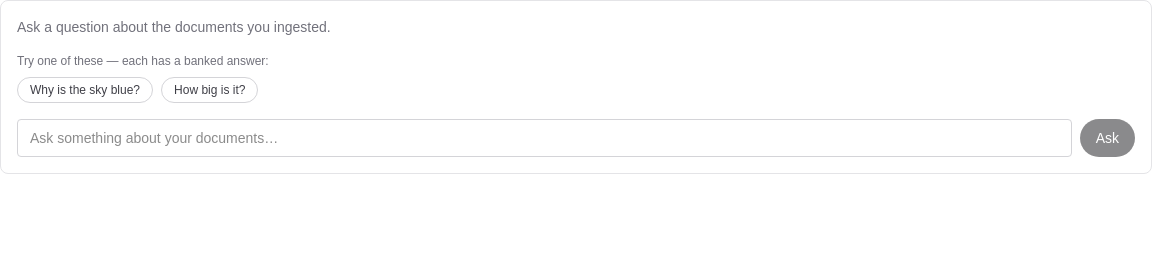
ChatWindow › a suggestion chip sends its exact text, and the chips hide only while a question is in flight
Expected: the text "Try one of these — each has a banked answer:" is shown, [17,54,269,68]
Click the button "Why is the sky blue?" at (85, 90), box [17,77,153,103]
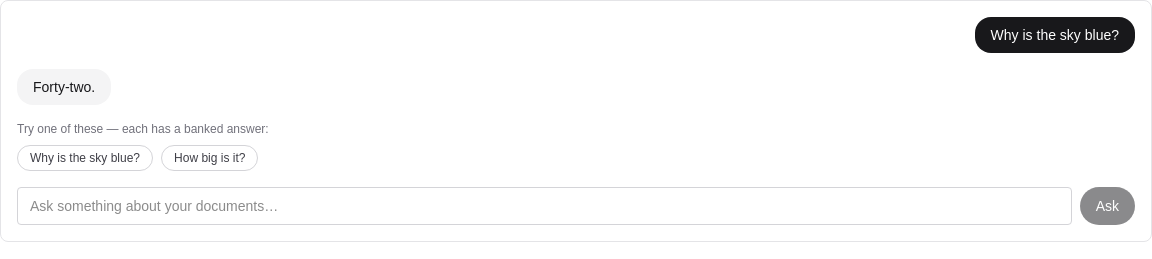
Expected: the text "Try one of these — each has a banked answer:" is shown, [17,122,269,136]
Expected: the text "Forty-two." is shown, [17,69,111,105]
